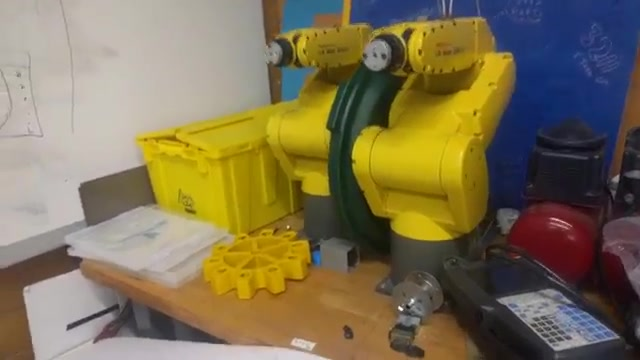gear: (198, 222, 310, 300)
